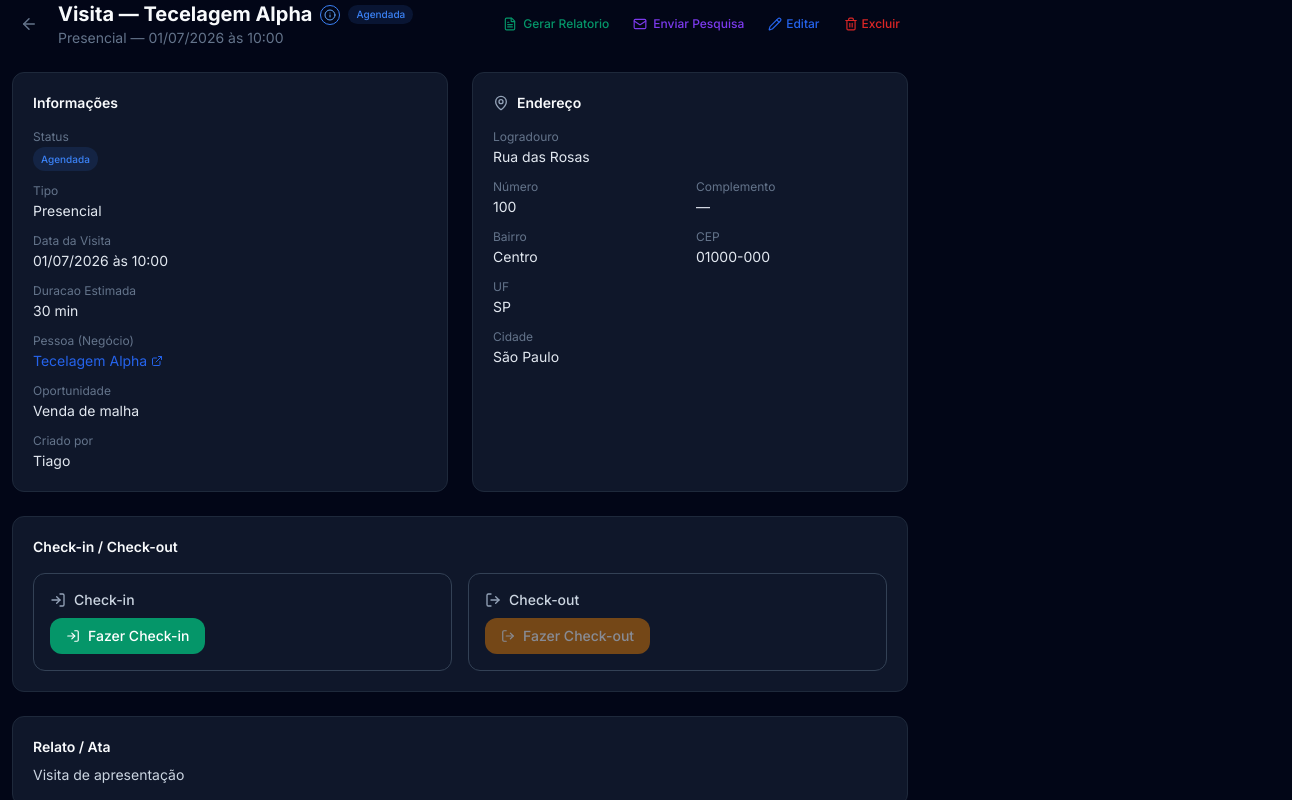
DetalheVisitaPage › aplica o modelo de visita técnica no relato da ata
Check: the heading "Visita — Tecelagem Alpha" is shown, box x1=58 y1=0 x2=340 y2=28
Click the button "Editar" at (794, 24), box x1=760 y1=6 x2=828 y2=42
(page scrolled)
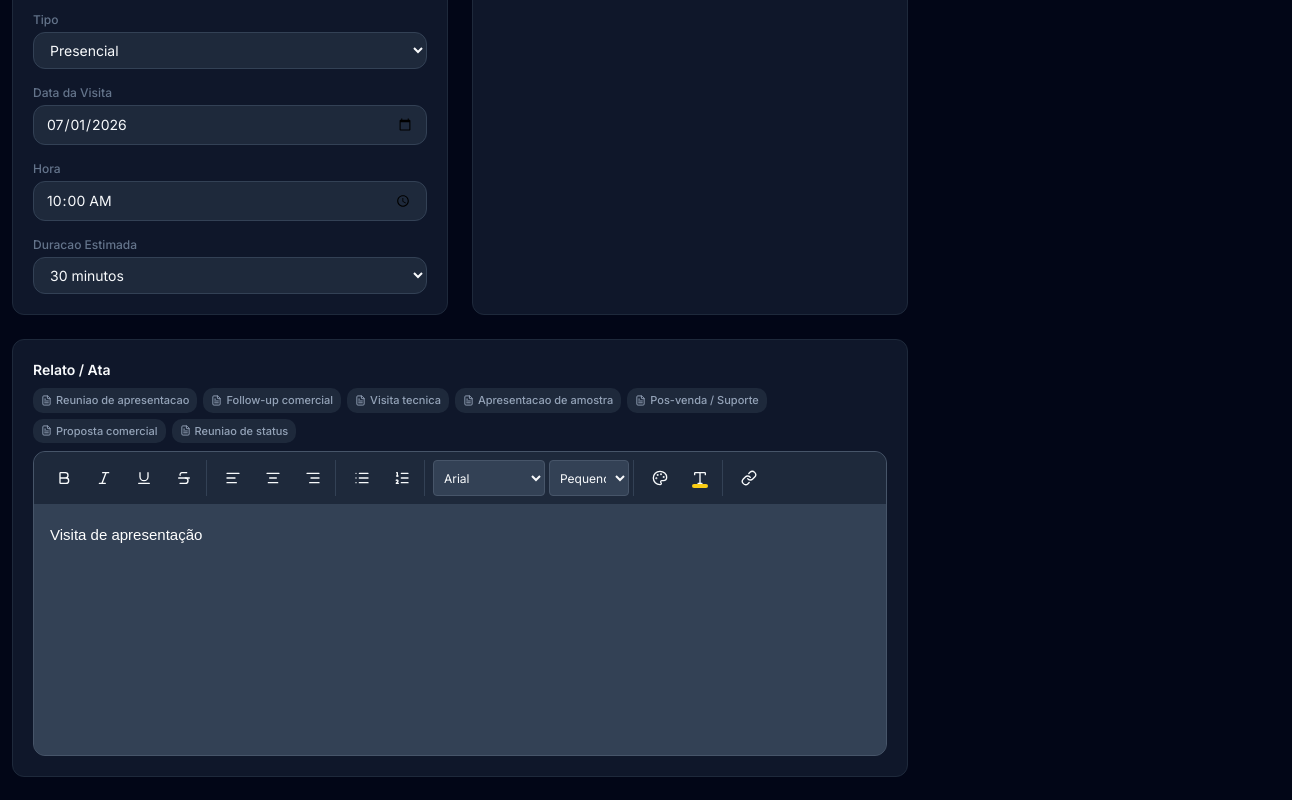
Check: the text box labelled "Visita de apresentação" is shown, box x1=34 y1=505 x2=886 y2=755
Click the button "Visita tecnica" at (398, 400), box x1=347 y1=388 x2=449 y2=412
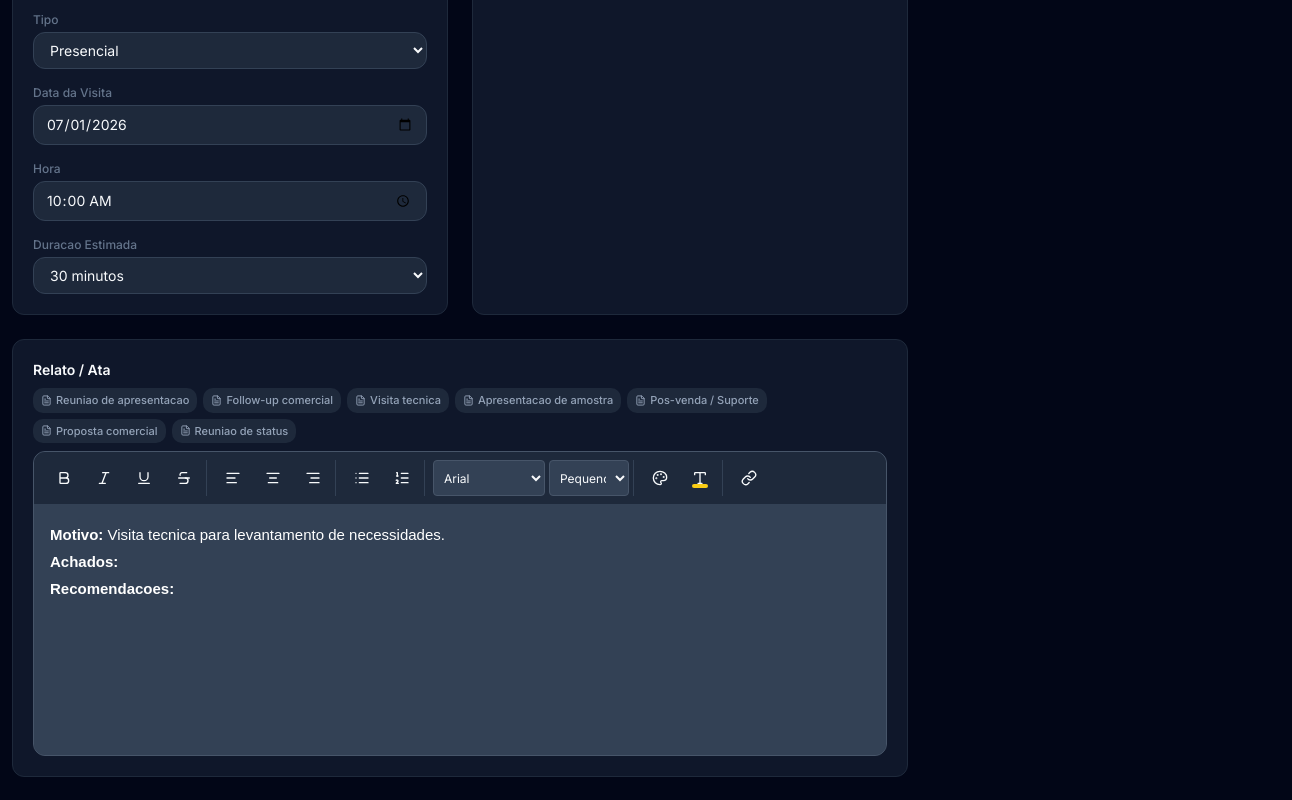
Check: the text box shows "Visita tecnica para levantamento de necessidades", box x1=34 y1=505 x2=886 y2=755
Check: the text box no longer shows "Visita de apresentação"
